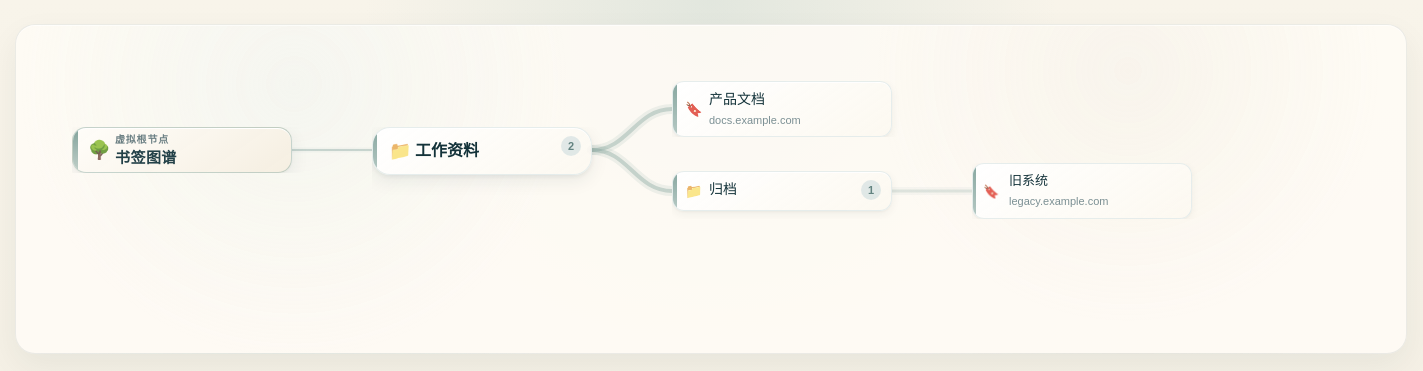
it: T07B draft graph undo interaction gate › reverts a delete on document-level Ctrl+Z and restores the removed subtree
Click the button with aria-label "书签节点：旧系统" at (1082, 191), box top-left (972, 163), bottom-right (1192, 219)
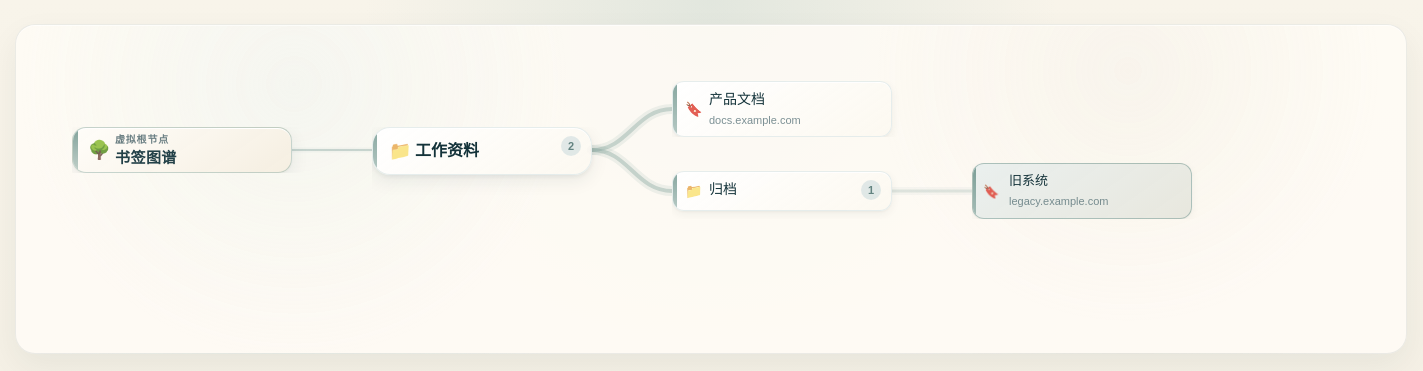
Press Delete in the button with aria-label "书签节点：旧系统", box top-left (972, 163), bottom-right (1192, 219)
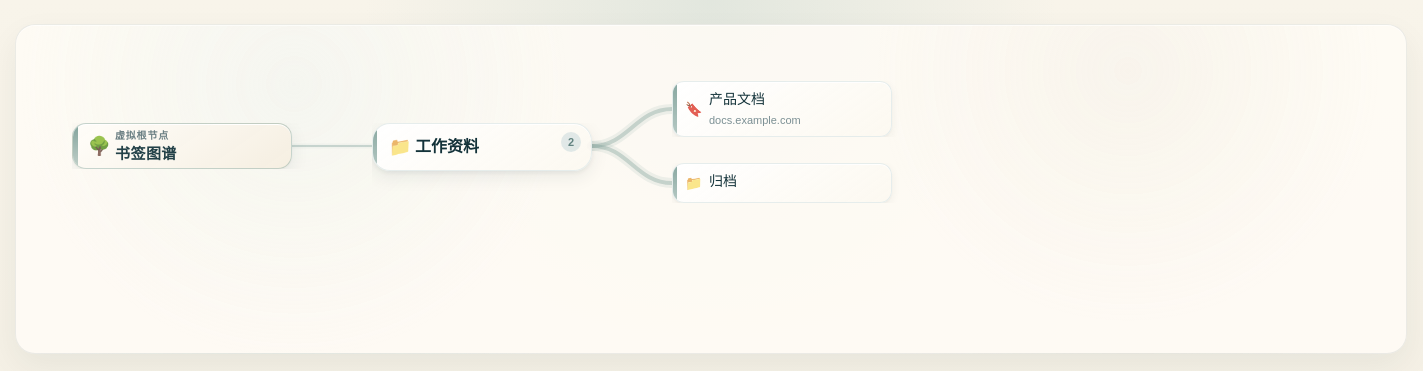
Check: the button "书签节点：旧系统" is gone
Press z
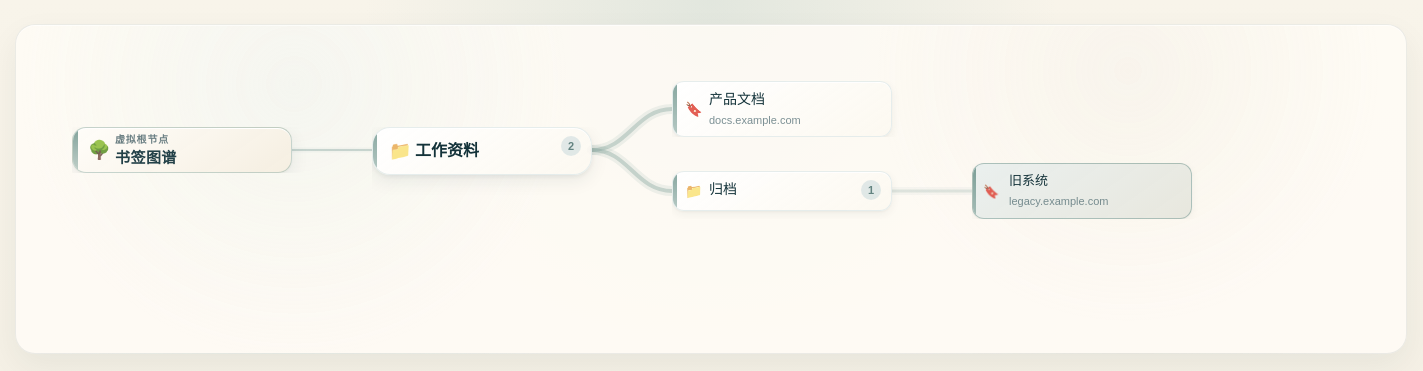
Check: the button with aria-label "书签节点：旧系统" is shown, box top-left (972, 163), bottom-right (1192, 219)
